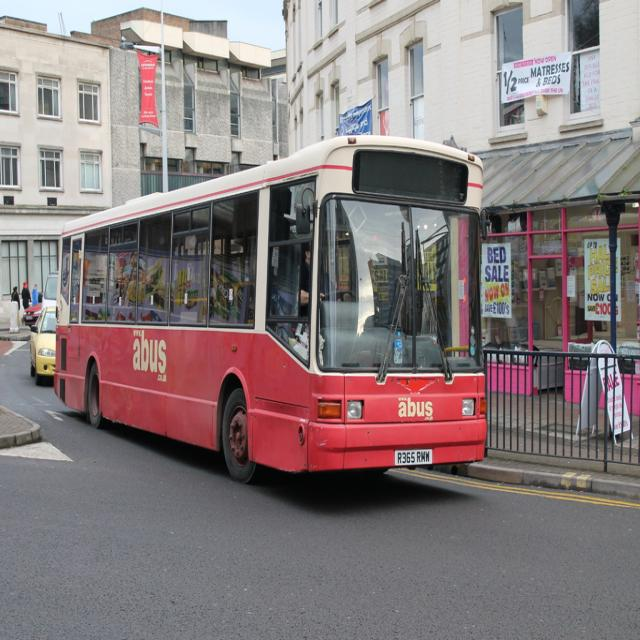car: (28, 308, 55, 382)
